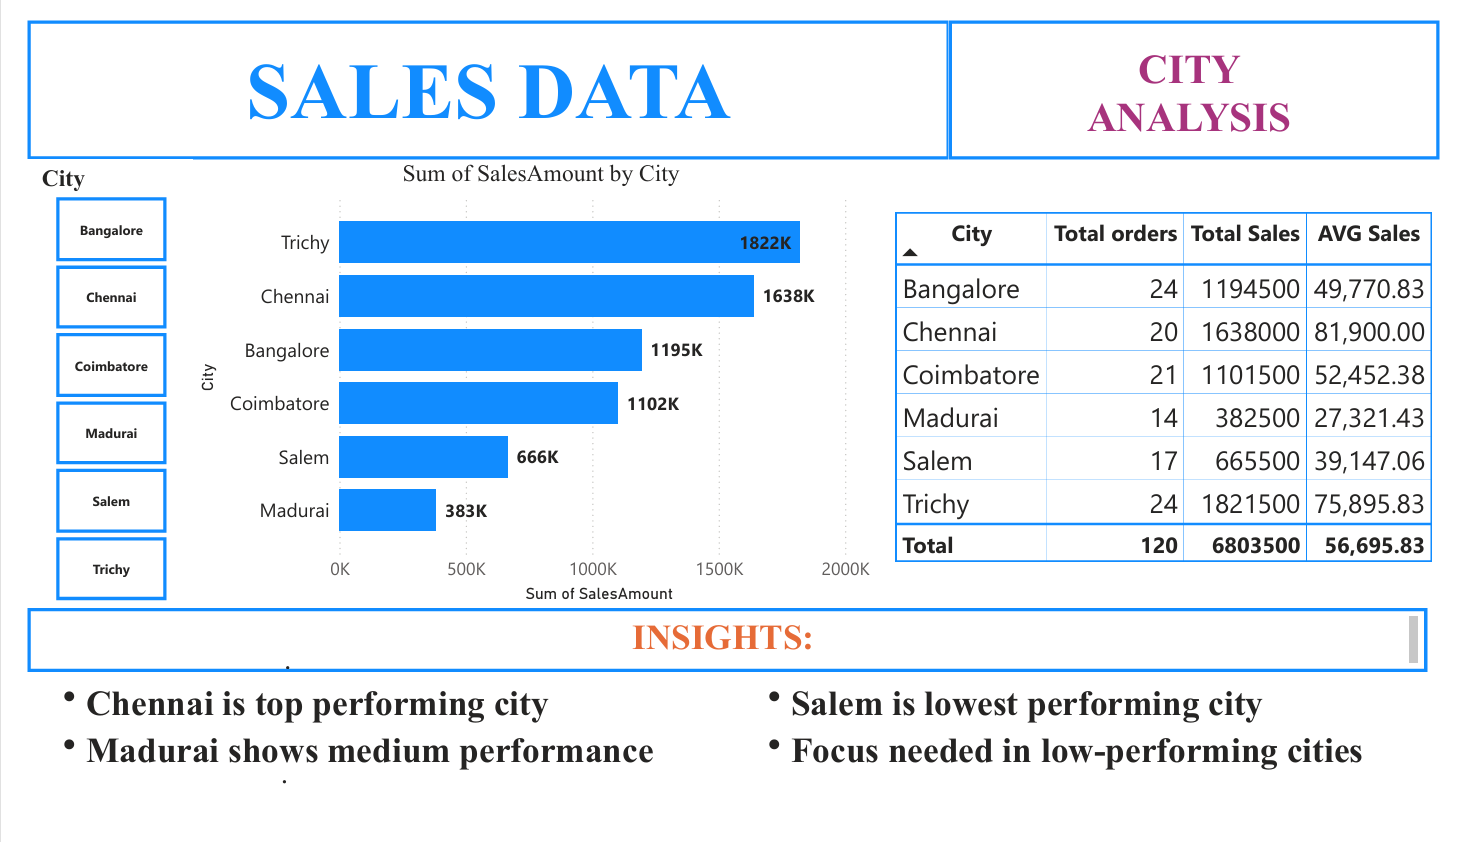

Layout of this report page (visuals, bound fields, positions):
{"tool":"powerbi","page":{"name":"City Analysis","canvas":[1280,720],"ordinal":1},"visuals":[{"type":"barChart","fields":{"Category":["Sales_Data.City"],"Y":["Sum(Sales_Data.SalesAmount)"]},"box":[149.6,126.2,631.2,406.2],"z":0},{"type":"slicer","fields":{"Values":["Sales_Data.City"]},"box":[108.4,610.6,378.7,109.8],"z":1000},{"type":"tableEx","fields":{"Values":["Sales_Data.City","Sales_Data.Total orders","Sales_Data.Total Sales","Sales_Data.AVG Sales"]},"box":[780.8,168.8,499.5,326.6],"z":2000},{"type":"textbox","box":[0,573.6,639.5,146.8],"z":3000},{"type":"textbox","box":[639.5,573.6,640.8,146.8],"z":4000},{"type":"textbox","box":[0,532.4,1269.3,57.6],"z":5000},{"type":"textbox","box":[0,0,835.7,126.2],"z":6000},{"type":"textbox","box":[835.4,0,444.6,126.2],"z":7000},{"type":"slicer","fields":{"Values":["Sales_Data.City"]},"box":[0,126.2,149.6,406.2],"z":8000}]}

Visuals, with their boxes in screenshot pixels (x1, y1, x2, y2), scaled from the page's 1280x720 canvas onto the 1463x842 screenshot:
barChart - Sales_Data.City x Sum(Sales_Data.SalesAmount): 171:148:892:623
slicer - Sales_Data.City: 124:714:557:841
tableEx - Sales_Data.City x Sales_Data.Total orders: 892:197:1462:579
textbox: 0:671:731:841
textbox: 731:671:1462:841
textbox: 0:623:1451:690
textbox: 0:0:955:148
textbox: 955:0:1462:148
slicer - Sales_Data.City: 0:148:171:623
